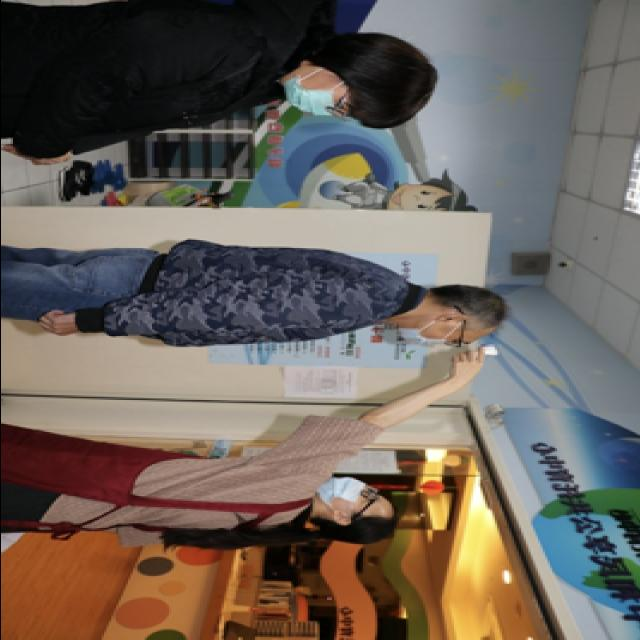with_mask: (278, 75, 350, 120), (312, 475, 382, 512), (401, 324, 476, 351)
